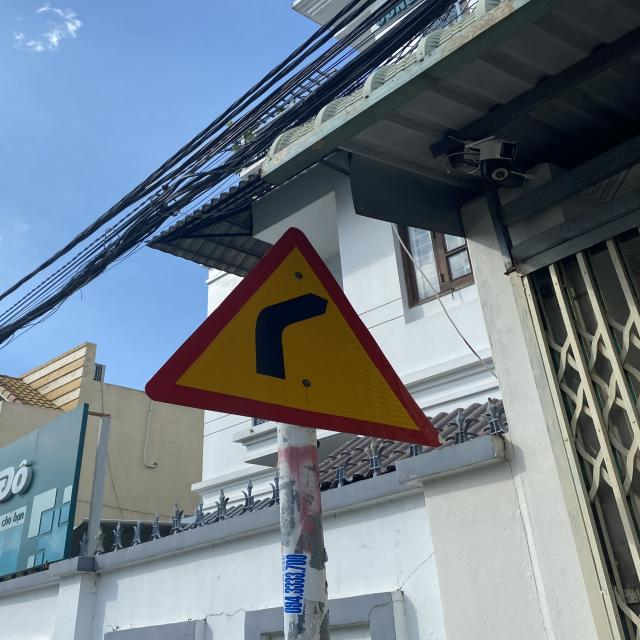Duong_Nguoi_Di_Bo_Cat_Ngang: (144, 227, 440, 448)
